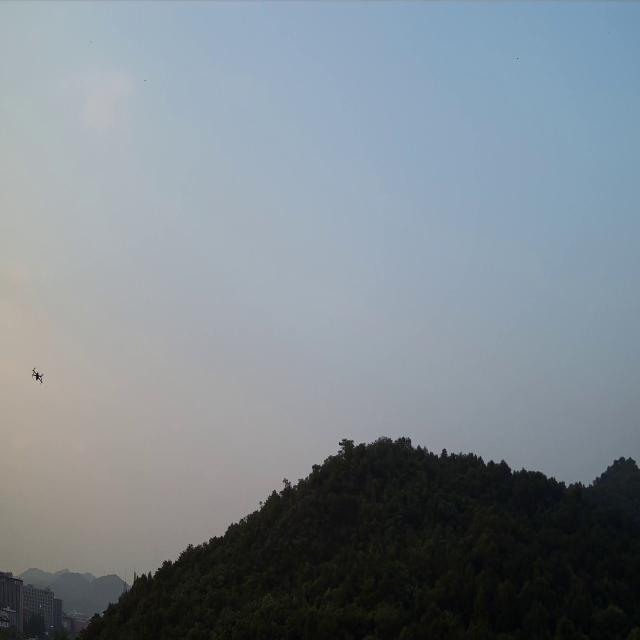UAV: (31, 364, 44, 385)
